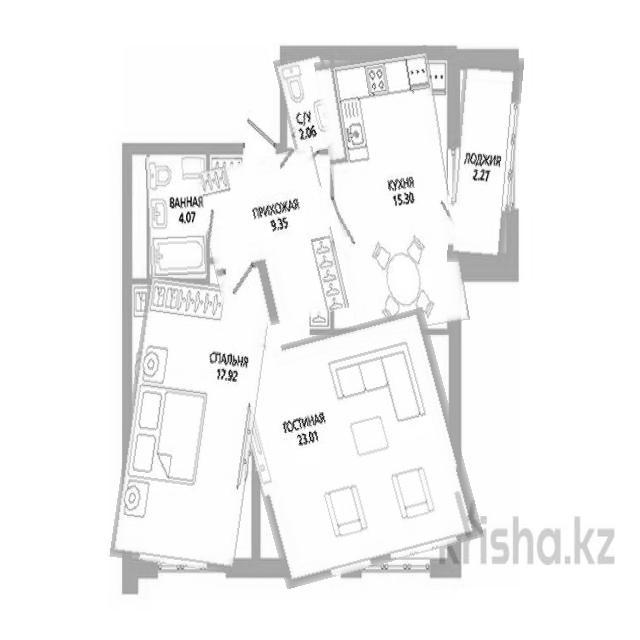balcony: (452, 54, 520, 265)
bathroom: (147, 156, 206, 276), (278, 51, 340, 154)
hallway: (197, 148, 348, 324)
kitchen: (324, 49, 460, 334)
living_room: (239, 318, 471, 578), (119, 278, 262, 569)
